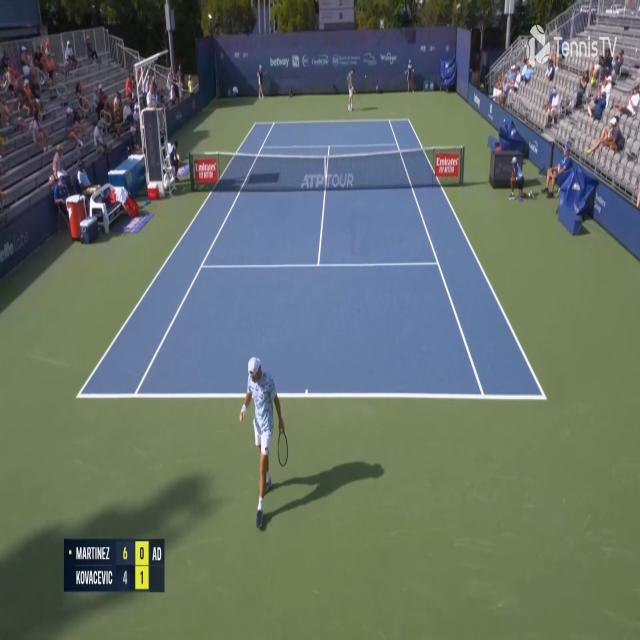tennis-player: (238, 355, 290, 532), (346, 64, 361, 114)
